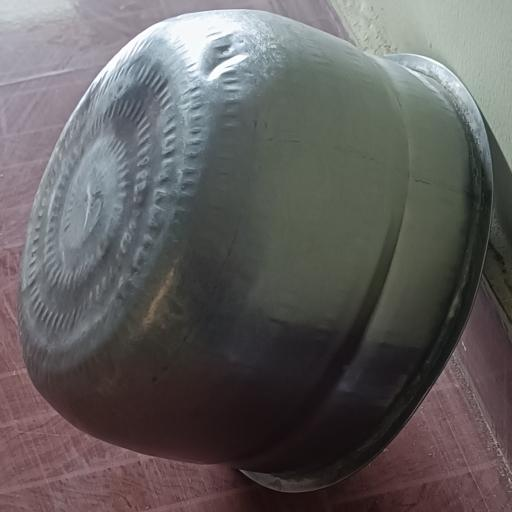vessel: (19, 11, 492, 489)
